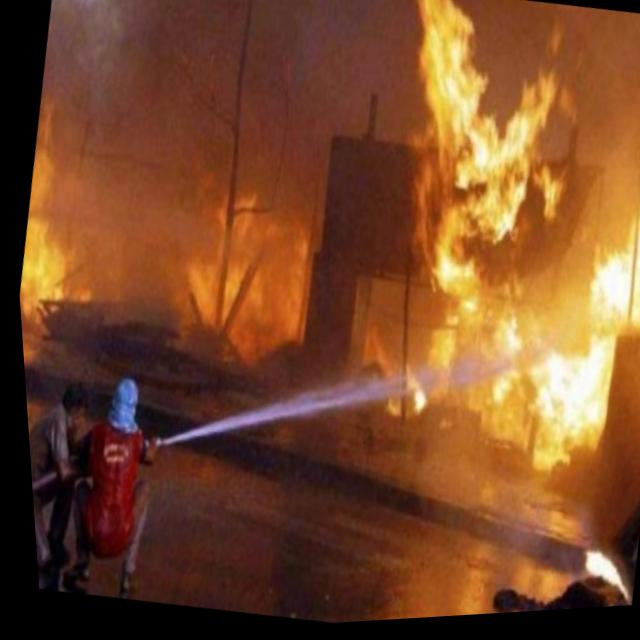fire: (321, 0, 640, 515), (154, 172, 323, 375), (5, 87, 126, 336)
